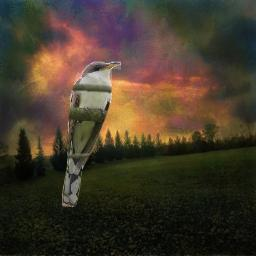Cuckoo: (62, 61, 121, 207)
